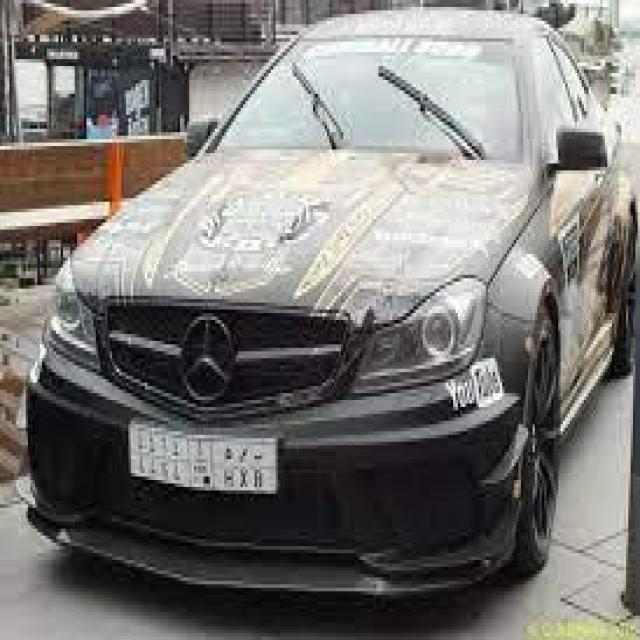license_plate: (110, 396, 290, 512)
